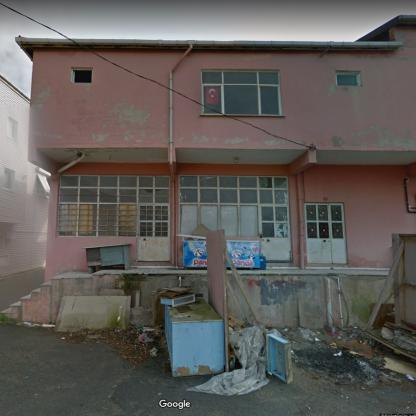door: (304, 204, 346, 262), (138, 204, 168, 262), (262, 206, 290, 260)
window: (57, 176, 169, 236), (202, 74, 280, 112), (179, 177, 287, 202), (337, 72, 359, 86)
